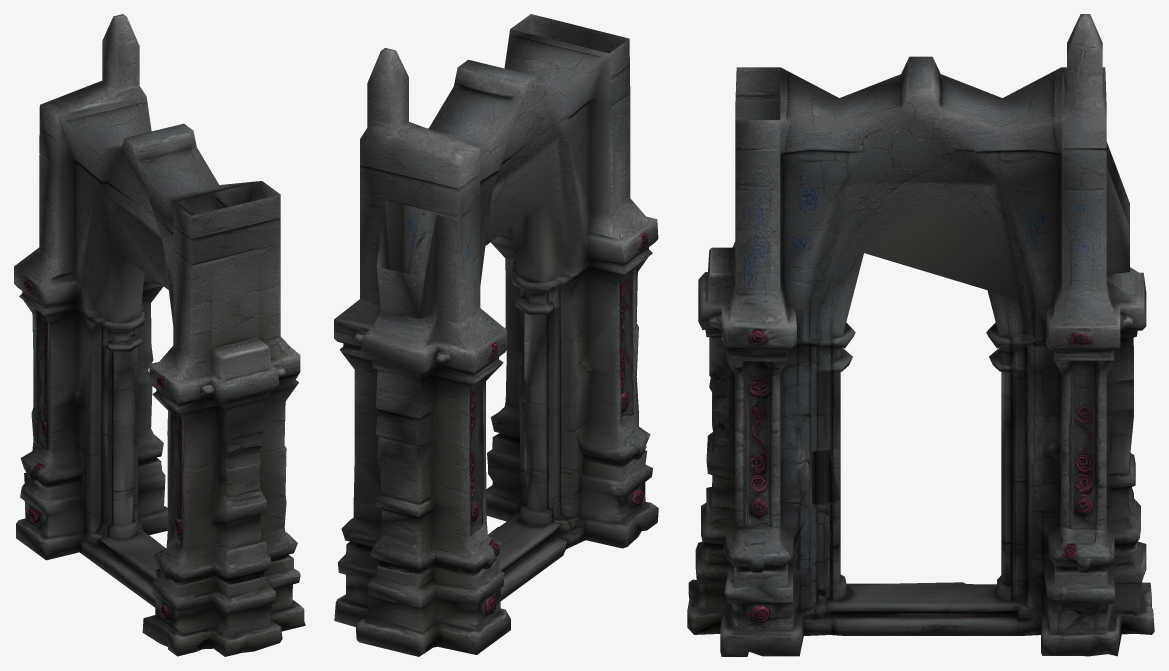
Rendered from source.glb.
3 views of the same model, side by side, from view 1: azimuth 30°, elevation 25°; view 2: azimuth 150°, elevation 25°; view 3: azimuth 270°, elevation 25° (orthographic). The views are drawn at different scales.
Visible parts, largest first — view 1: tripo_node_ddaacbf9-cf4b-42c2-9bc1-98ef4db14608; view 2: tripo_node_ddaacbf9-cf4b-42c2-9bc1-98ef4db14608; view 3: tripo_node_ddaacbf9-cf4b-42c2-9bc1-98ef4db14608.
Part boxes in pixels (<box>): tripo_node_ddaacbf9-cf4b-42c2-9bc1-98ef4db14608: <box>14,14,305,656</box>; tripo_node_ddaacbf9-cf4b-42c2-9bc1-98ef4db14608: <box>334,14,658,656</box>; tripo_node_ddaacbf9-cf4b-42c2-9bc1-98ef4db14608: <box>687,14,1154,656</box>.
Bounding box in the file's own units: 0.2681 × 0.9746 × 0.6673.
1 material, 1 textured.
